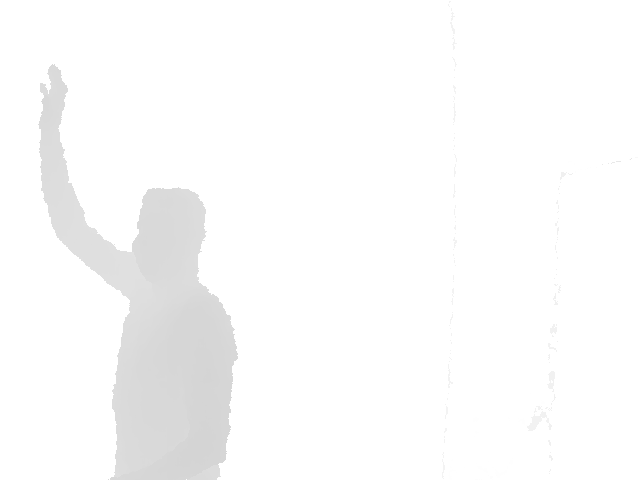hand: (38, 63, 69, 129)
head: (131, 187, 208, 279)
person: (38, 63, 239, 479)
